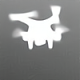plane: (8, 4, 71, 51)
